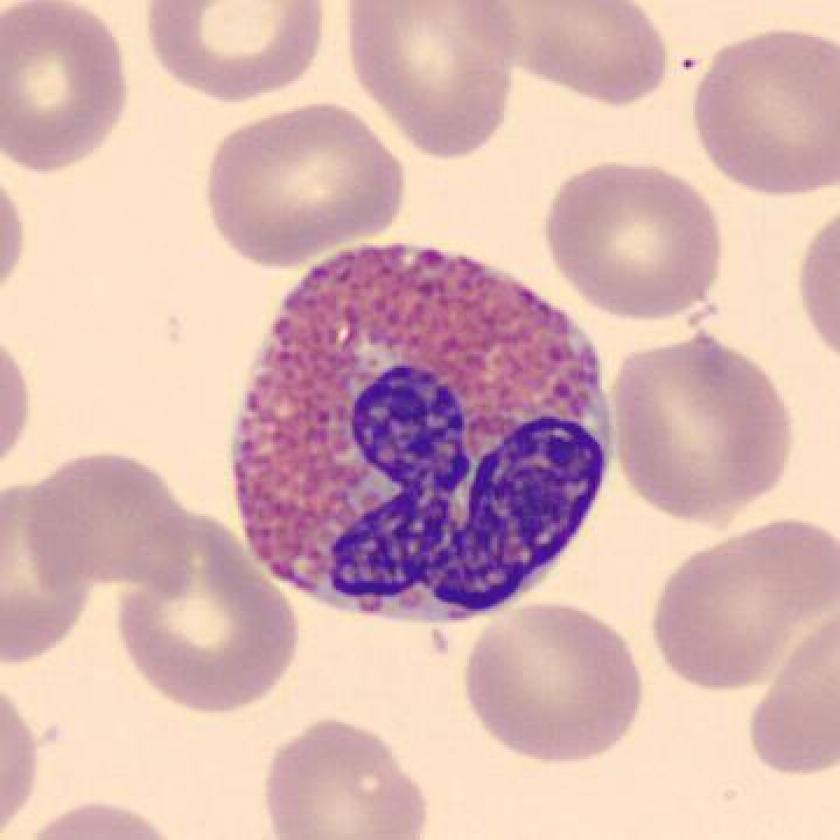eosinophil: (216, 223, 624, 644)
